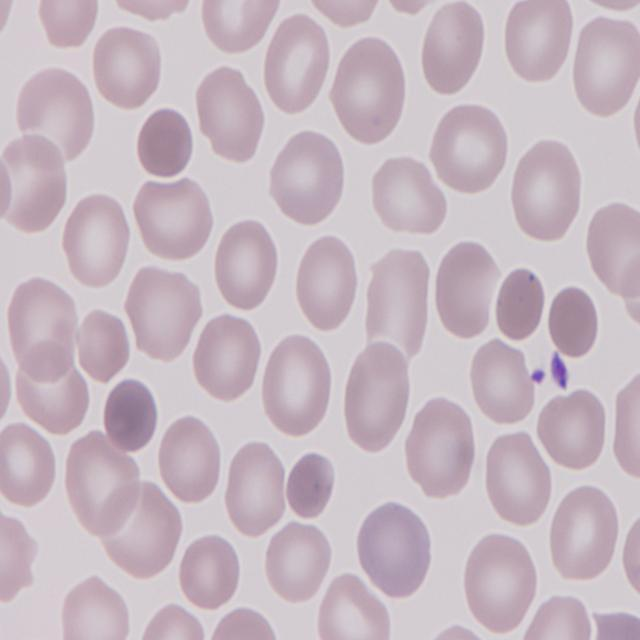Platelets: (546, 355, 570, 390)
RBC: (328, 35, 412, 144), (63, 430, 147, 536), (340, 342, 416, 459), (259, 330, 338, 440), (508, 134, 586, 244), (265, 126, 348, 228), (462, 527, 540, 635), (259, 10, 336, 119), (123, 259, 202, 364), (4, 276, 82, 380), (402, 397, 477, 505), (353, 500, 434, 600), (544, 480, 621, 584), (364, 245, 432, 362), (430, 102, 512, 198), (108, 482, 186, 582), (194, 64, 268, 165), (571, 12, 640, 120), (61, 190, 134, 292), (293, 229, 363, 332), (134, 176, 215, 265), (192, 308, 266, 404), (210, 216, 282, 314), (5, 135, 74, 236), (420, 0, 491, 97), (432, 238, 500, 339), (484, 432, 554, 530), (153, 412, 223, 507), (538, 384, 612, 473), (223, 442, 290, 540), (370, 152, 448, 236), (91, 23, 164, 112), (499, 0, 575, 85), (466, 337, 536, 428), (264, 516, 336, 604), (174, 532, 242, 615), (0, 418, 61, 509), (582, 205, 640, 299), (316, 575, 396, 640), (196, 0, 280, 60), (74, 304, 134, 386), (59, 575, 132, 640), (0, 504, 36, 606), (609, 368, 640, 480), (35, 0, 99, 54), (525, 593, 593, 640), (140, 602, 210, 640), (208, 606, 284, 640), (304, 0, 390, 30), (574, 0, 640, 18)
Spherocyte: (545, 282, 605, 361), (101, 371, 160, 451), (136, 108, 196, 182), (494, 266, 548, 344), (285, 450, 339, 520)
